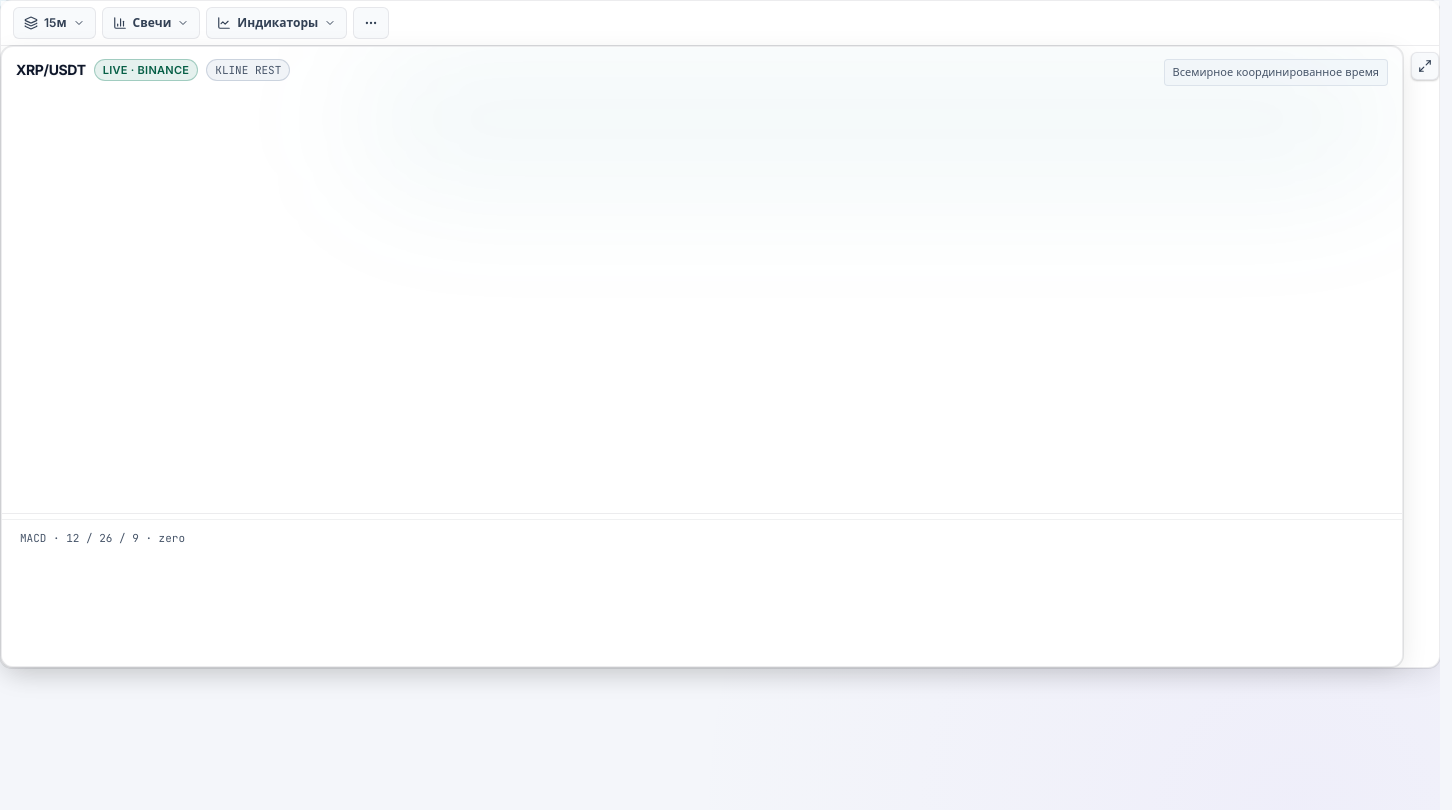
Test: ChartTerminal indicators menu alignment › keeps every checkbox on one right axis with a stable box
Click the button with test id "chart-indicators-trigger": {"x": 277, "y": 23} [206,7,347,39]
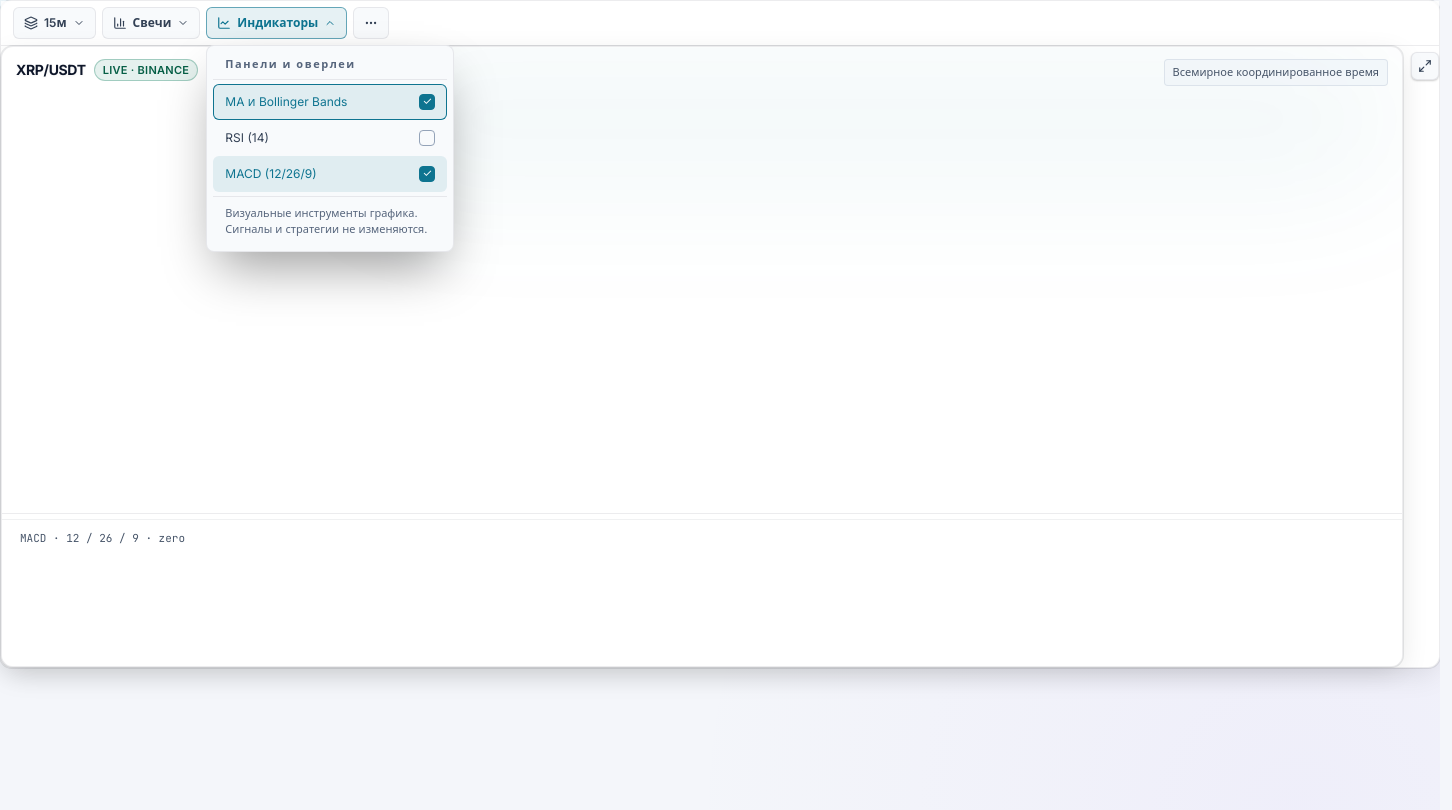
Now the text with test id "chart-indicator-box-rsi" is shown, box [419,130,435,146]
Now the text with test id "chart-indicator-box-macd" is shown, box [419,166,435,182]
